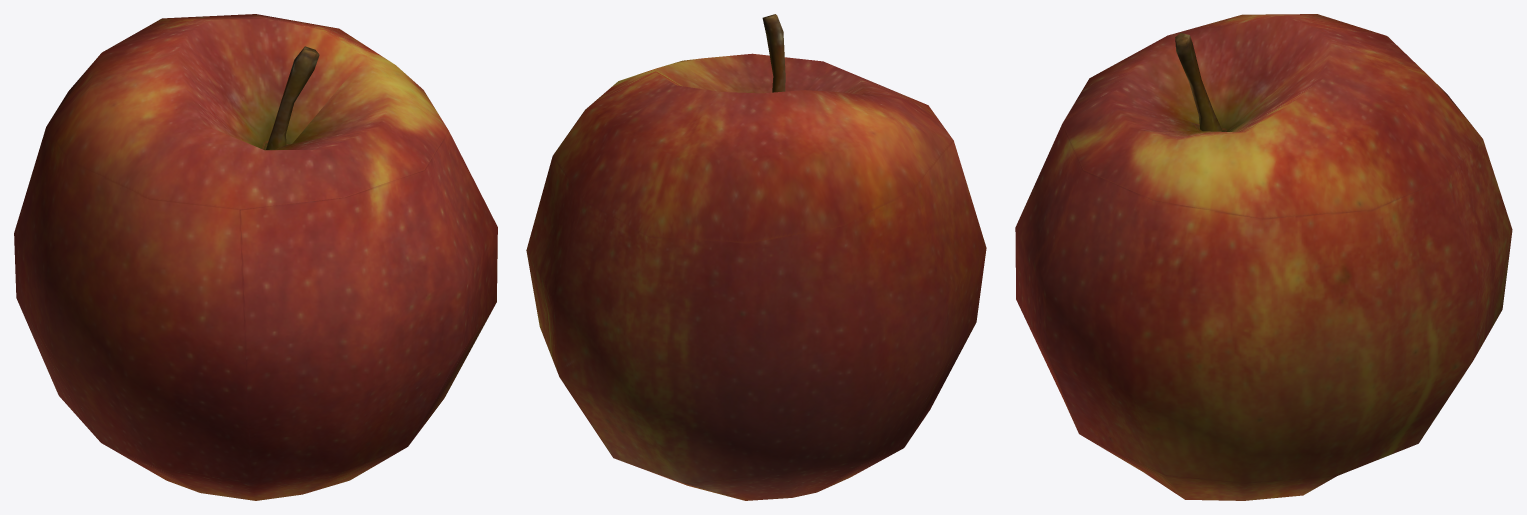
File: apple.glb
3 views of the same model, side by side, from view 1: azimuth 30°, elevation 25°; view 2: azimuth 150°, elevation 25°; view 3: azimuth 270°, elevation 25° (orthographic). The views are drawn at different scales.
Visible parts, largest first — view 1: apple__0; view 2: apple__0; view 3: apple__0.
Boxes of the visible parts, <box> form: apple__0: <box>14,14,497,500</box>; apple__0: <box>526,14,986,500</box>; apple__0: <box>1015,14,1512,500</box>.
Size of the model in its own units: 0.6244 by 0.6283 by 0.6535.
1 material, 1 textured.
